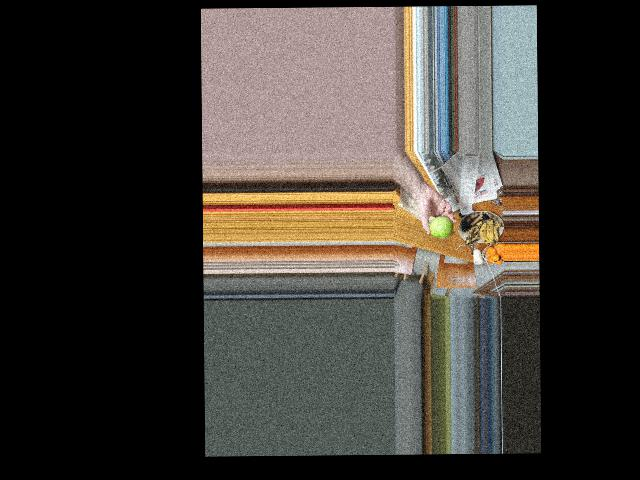apple: (426, 213, 451, 242)
